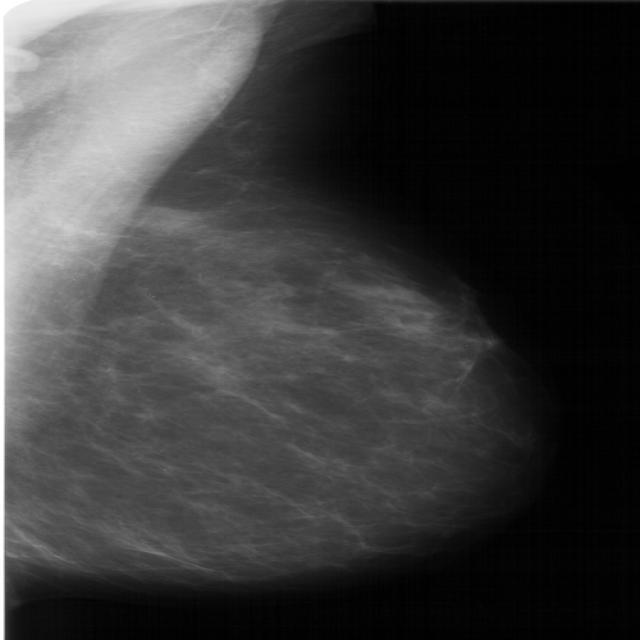tumour: (134, 205, 200, 236)
